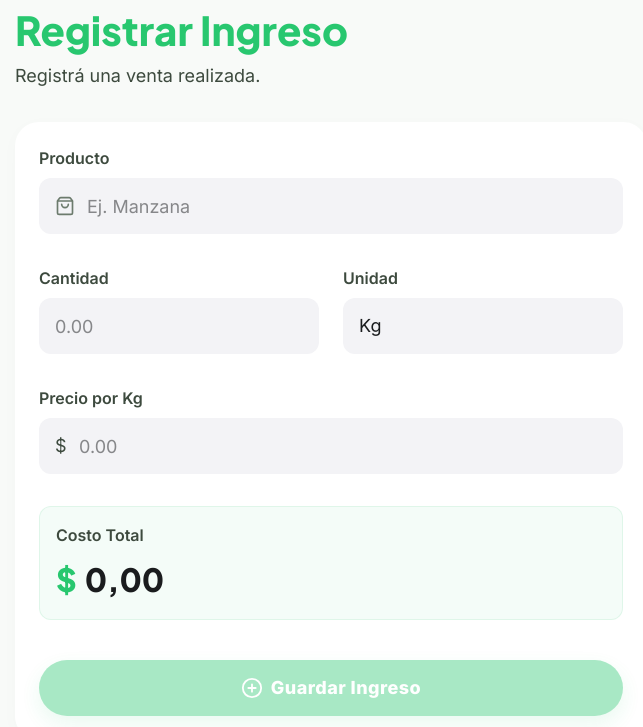
Test: TransactionForm - preservation › resets unit selector back to Kg after form submission
In the field with placeholder "Ej. Manzana": (331, 206) 39,178 -> 623,234, type "Hue"
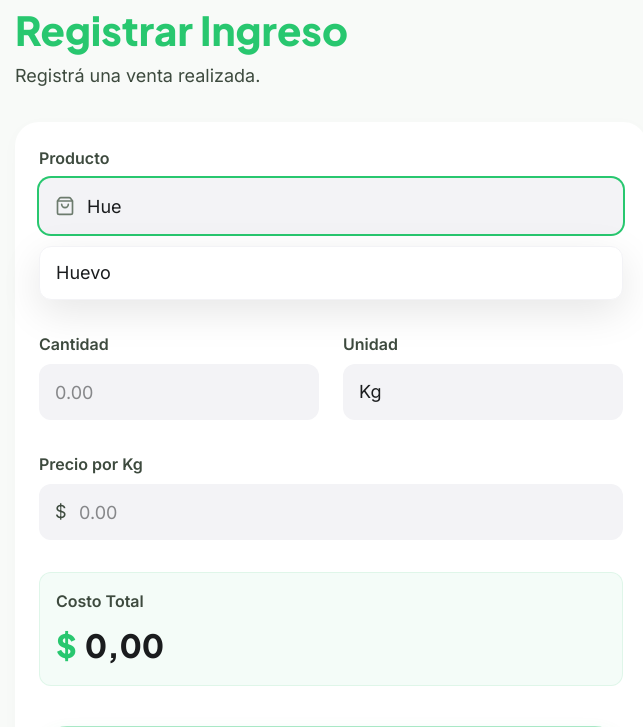
Click the button "Huevo": (83, 272) 40,247 -> 622,299
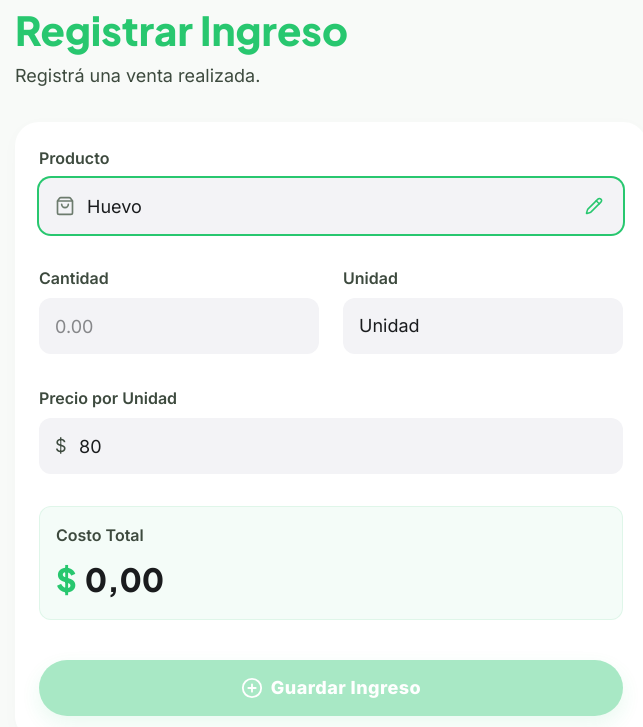
Expected: the dropdown shows "Unidad", 343,298 -> 623,354
In the number field with placeholder "0.00": (179, 326) 39,298 -> 319,354, type "10"
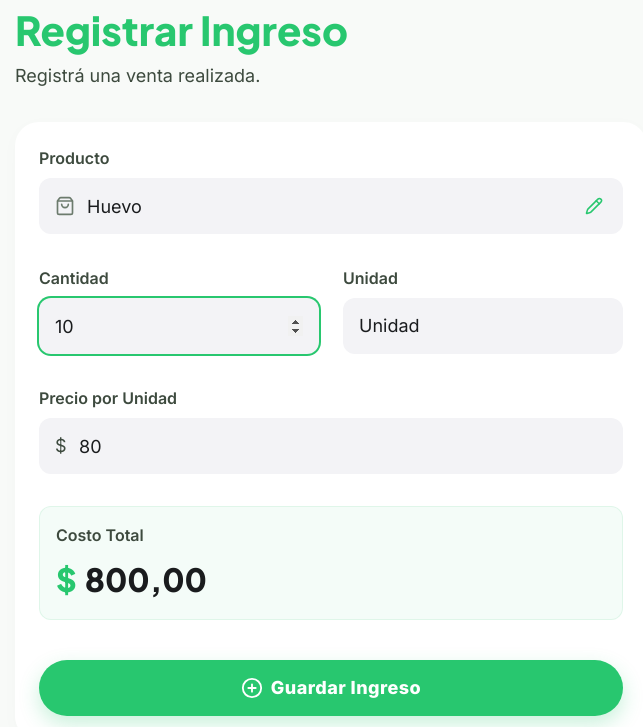
Click the button "Guardar Ingreso": (331, 688) 39,660 -> 623,716
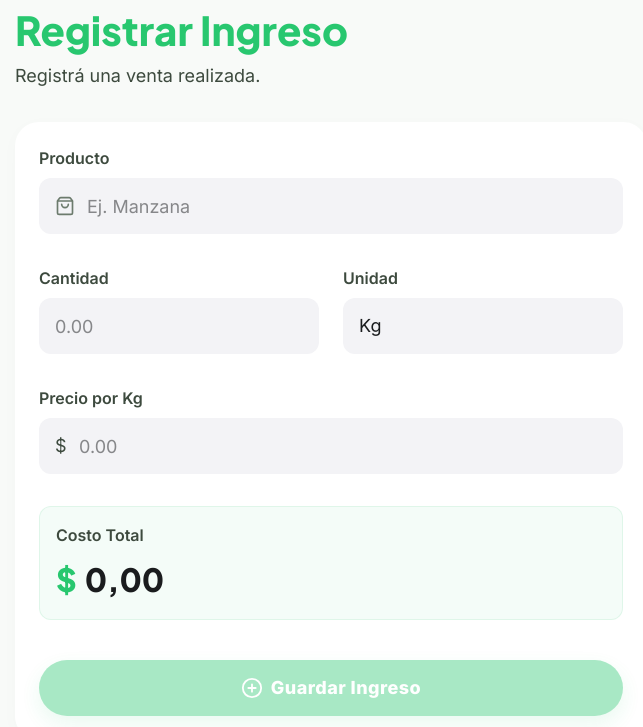
Expected: the dropdown shows "Kg", 343,298 -> 623,354
